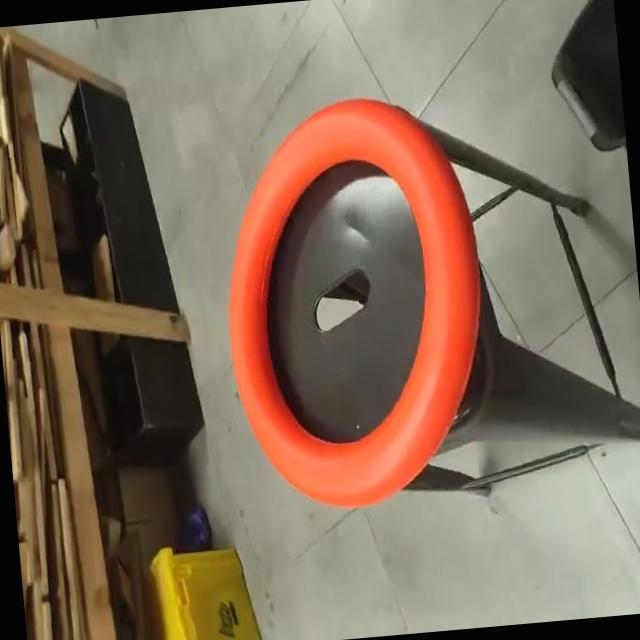note: (205, 88, 506, 520)
